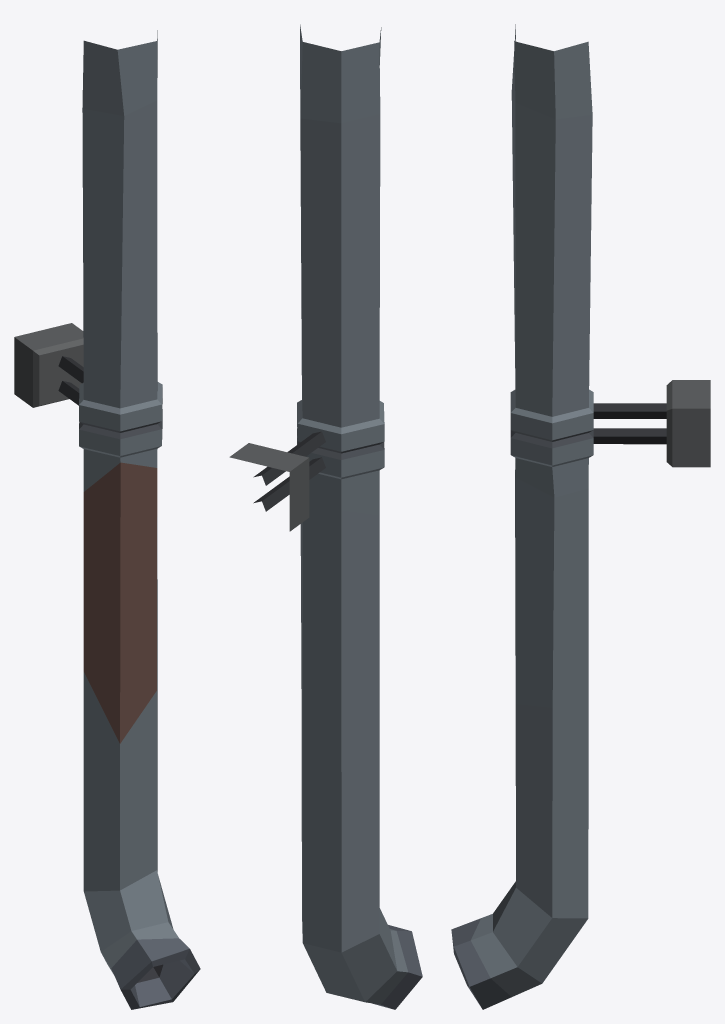
The model's file is SM_Rainwater_Pipe_Down.gltf.
The picture shows the model from 3 angles, left to right: view 1: azimuth 30°, elevation 25°; view 2: azimuth 150°, elevation 25°; view 3: azimuth 270°, elevation 25°; orthographic projection. The views are drawn at different scales.
Parts seen in each view (by area): view 1: SM_Rainwater_Pipe_Down; view 2: SM_Rainwater_Pipe_Down; view 3: SM_Rainwater_Pipe_Down.
Part boxes in pixels (<box>): SM_Rainwater_Pipe_Down: <box>14,30,200,1009</box>; SM_Rainwater_Pipe_Down: <box>229,24,422,1009</box>; SM_Rainwater_Pipe_Down: <box>451,24,710,1009</box>.
Size of the model in its own units: 0.2576 by 2.8 by 0.6785.
Materials: 1 (1 with a texture image).
